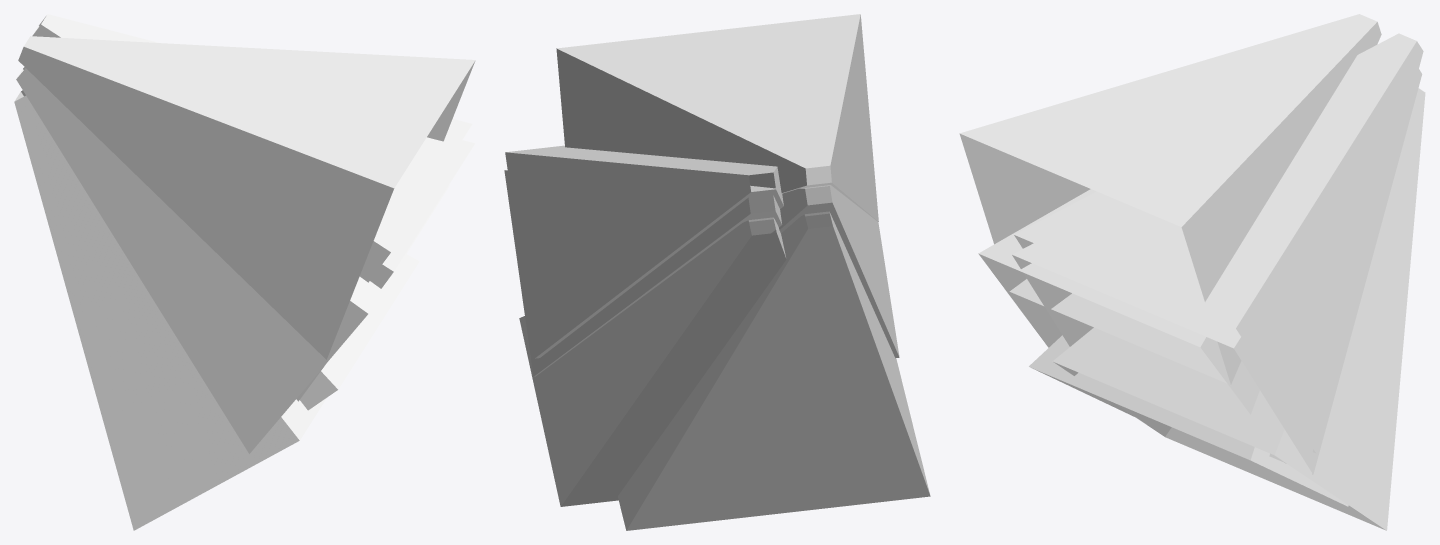
File: vgsecnstrct11.obj
3 renders of one model, left to right at view 1: azimuth 30°, elevation 25°; view 2: azimuth 150°, elevation 25°; view 3: azimuth 270°, elevation 25°, orthographic.
Parts seen in each view (by area): view 1: vgsEcnstrct11; view 2: vgsEcnstrct11; view 3: vgsEcnstrct11.
Part boxes in pixels (left/top/right/bottom): vgsEcnstrct11: left=14, top=14, right=475, bottom=530; vgsEcnstrct11: left=504, top=14, right=930, bottom=530; vgsEcnstrct11: left=959, top=14, right=1425, bottom=530.
Size of the model in its own units: 10.58 by 10.46 by 10.84.
1 material, 1 textured.
